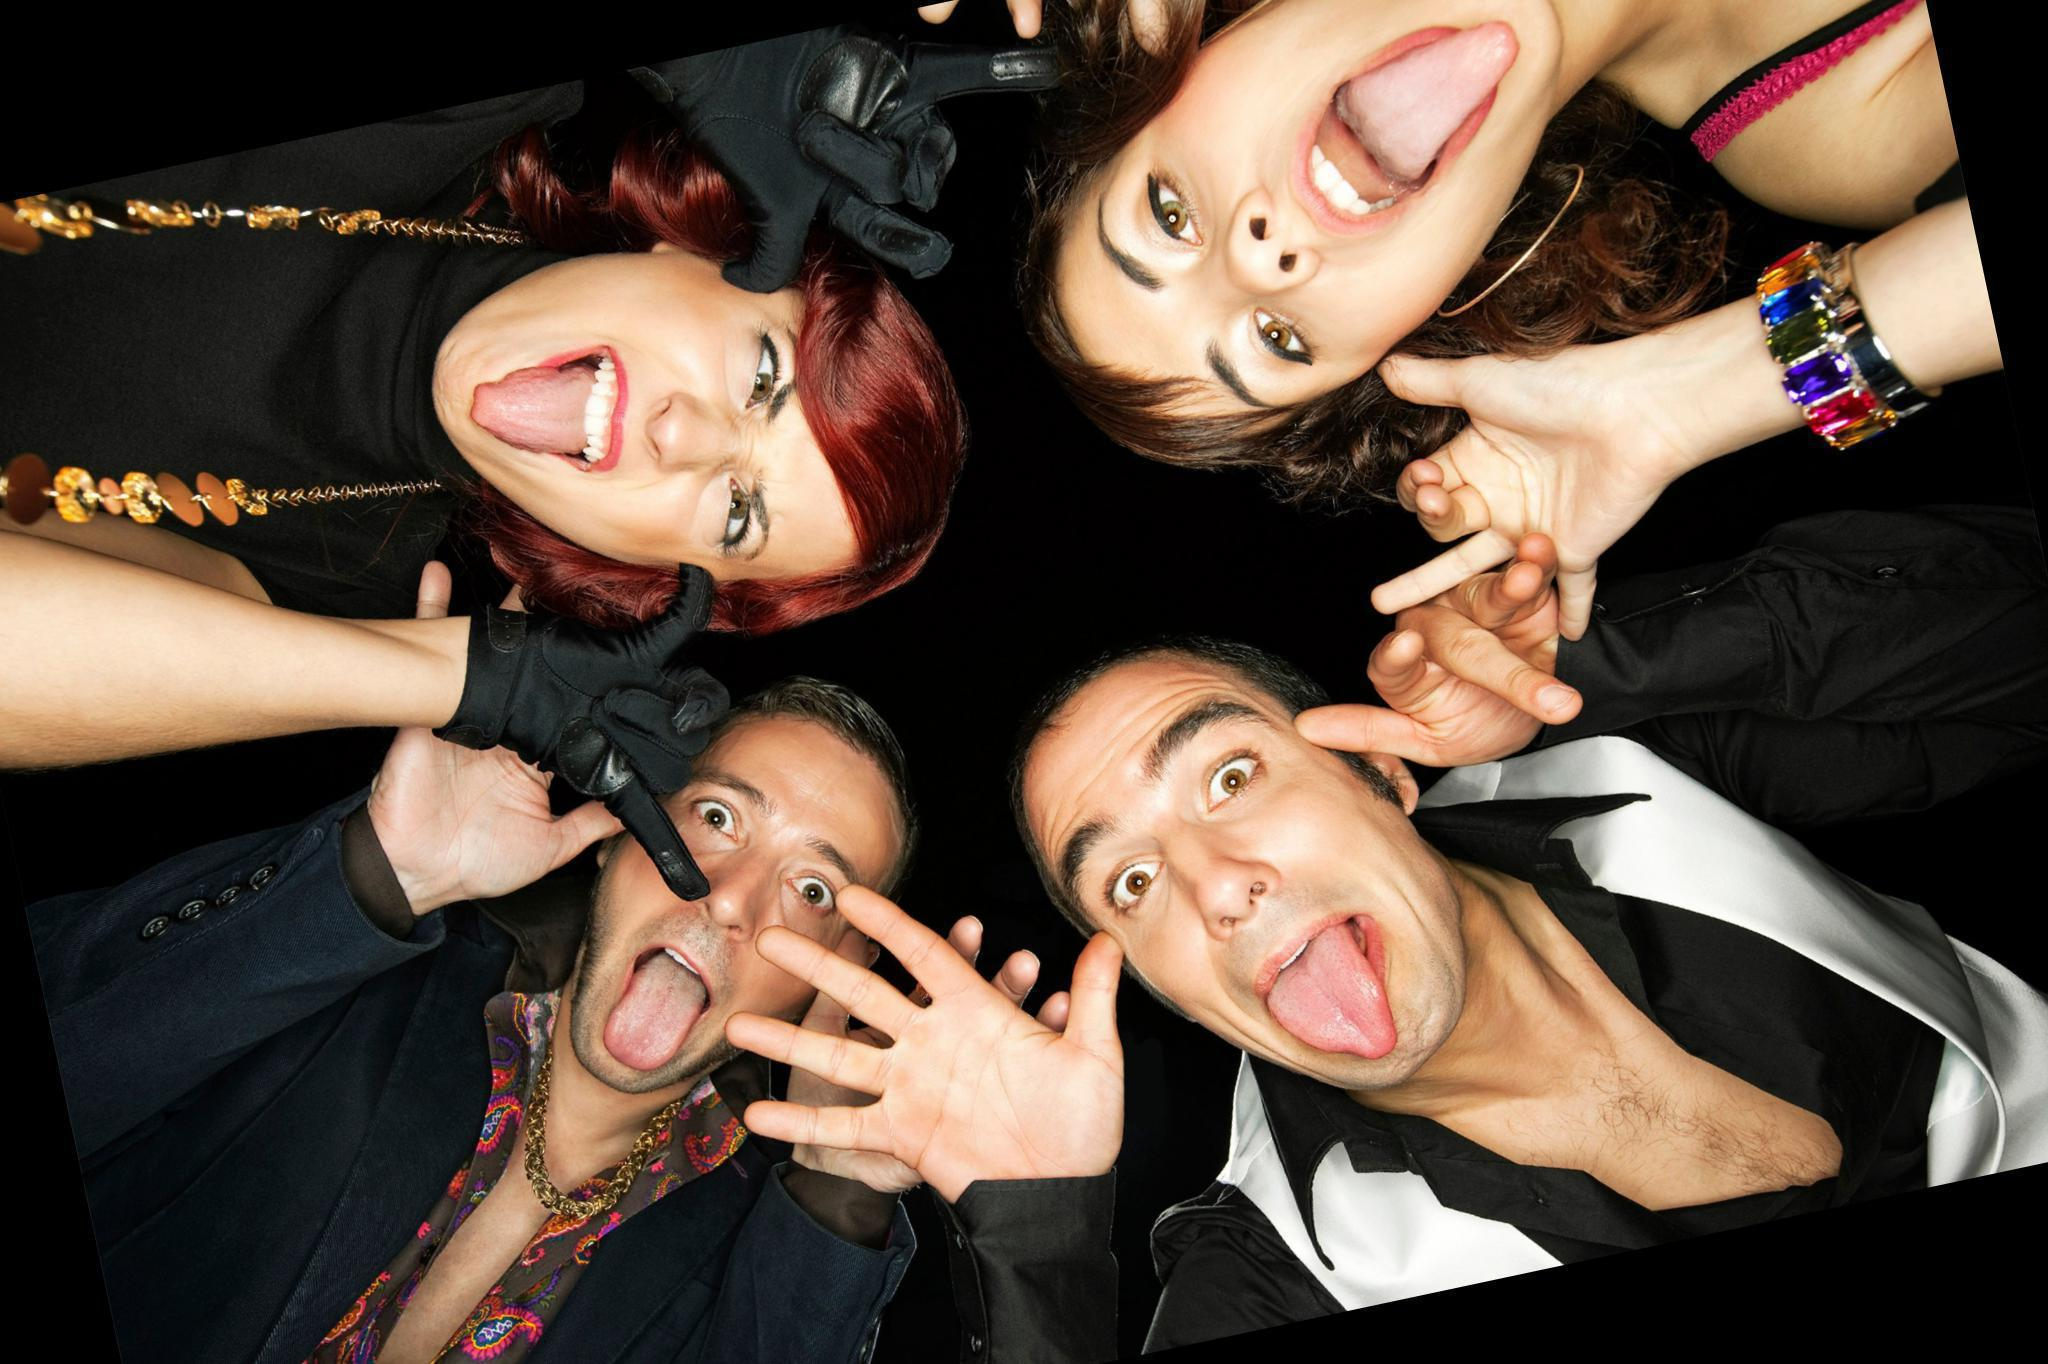Drunk: (1076, 6, 1544, 393), (1029, 680, 1433, 1072), (444, 282, 908, 582), (584, 711, 875, 1095)
